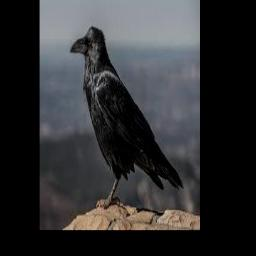Crow: (70, 26, 184, 209)
